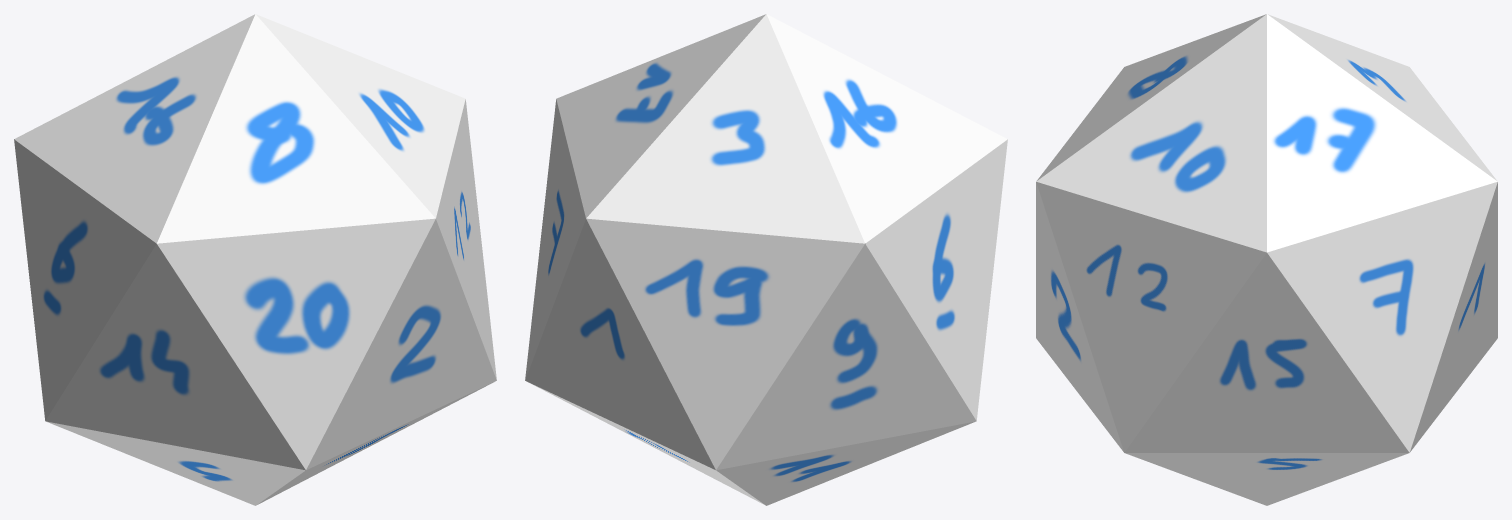
Rendered from dice20phy.glb.
3 renders of one model, left to right at view 1: azimuth 30°, elevation 25°; view 2: azimuth 150°, elevation 25°; view 3: azimuth 270°, elevation 25°, orthographic.
Visible parts, largest first — view 1: Icosphere; view 2: Icosphere; view 3: Icosphere.
Boxes of the visible parts, x1,y1,x2,y2 form: Icosphere: [14, 14, 496, 505]; Icosphere: [525, 14, 1007, 505]; Icosphere: [1036, 14, 1497, 505].
Bounding box in the file's own units: 8.94 × 10 × 8.51.
Materials: 1 (1 with a texture image).
